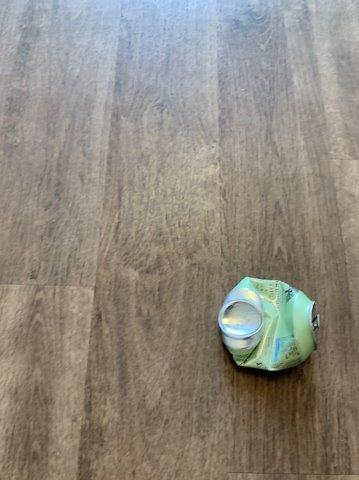kaleng: (219, 278, 317, 370)
